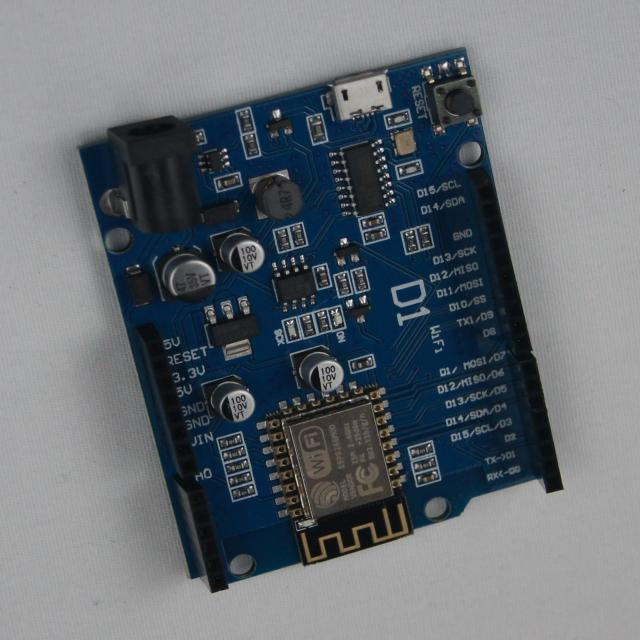Arduino Uno WiFi Shield: (81, 49, 562, 592)
